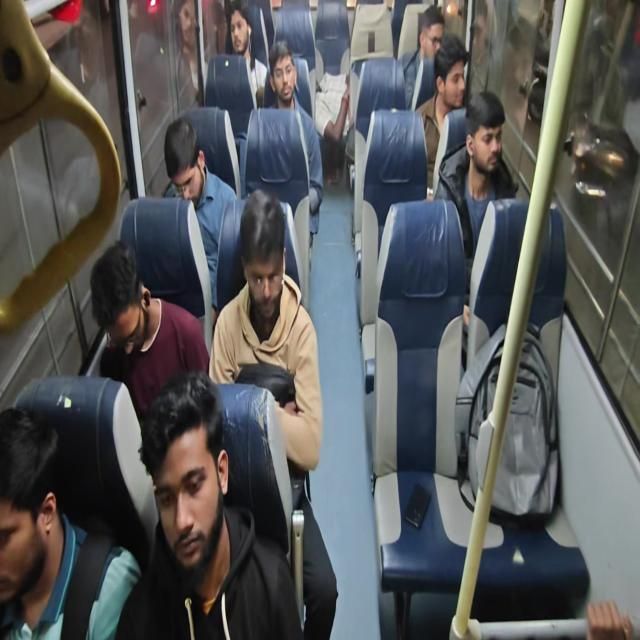person: (153, 415, 237, 614), (8, 392, 60, 576), (170, 111, 228, 228), (231, 214, 276, 328), (102, 267, 146, 354), (268, 26, 303, 129), (316, 60, 352, 157), (472, 97, 508, 170), (435, 46, 469, 114), (424, 9, 455, 75), (224, 0, 257, 49)
